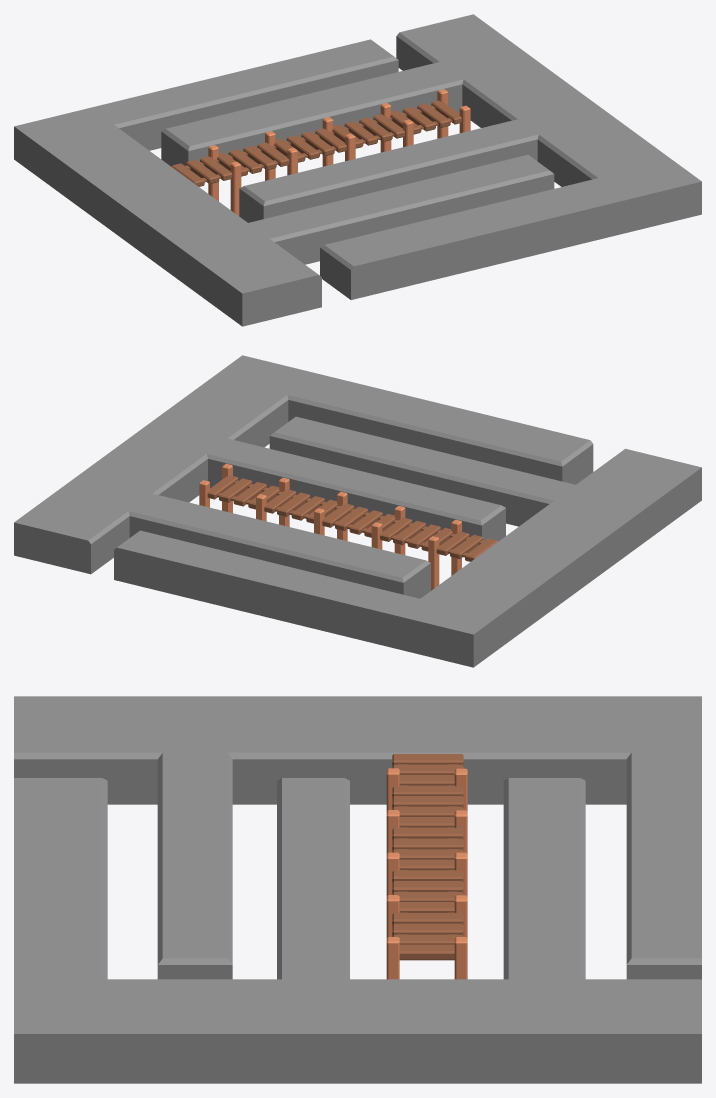
File: Level04Layout.fbx
3 renders of one model, top to bottom at view 1: azimuth 30°, elevation 25°; view 2: azimuth 150°, elevation 25°; view 3: azimuth 270°, elevation 25°, orthographic. The views are drawn at different scales.
Visible parts, largest first — view 1: Cube.002; view 2: Cube.002; view 3: Cube.002.
Boxes of the visible parts, x1,y1,x2,y2 form: Cube.002: (14, 14, 701, 326); Cube.002: (14, 355, 701, 667); Cube.002: (14, 696, 701, 1083).
Bounding box in the file's own units: 2103 × 317 × 1811.
